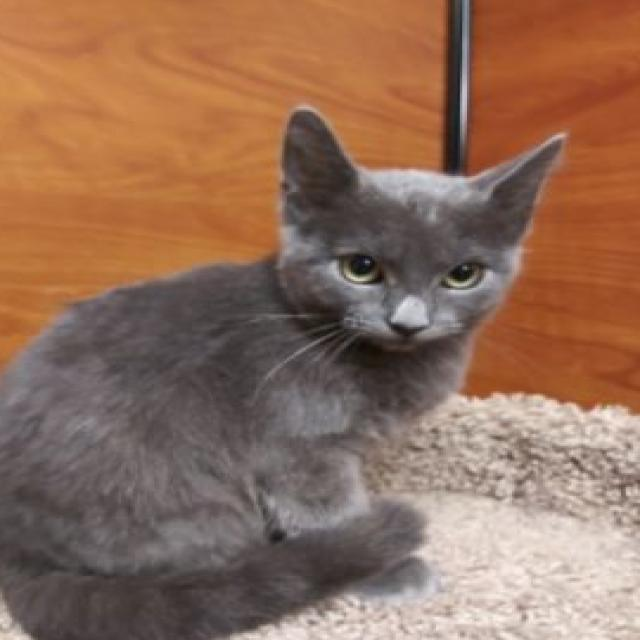Russian Blue: (0, 101, 571, 639)
